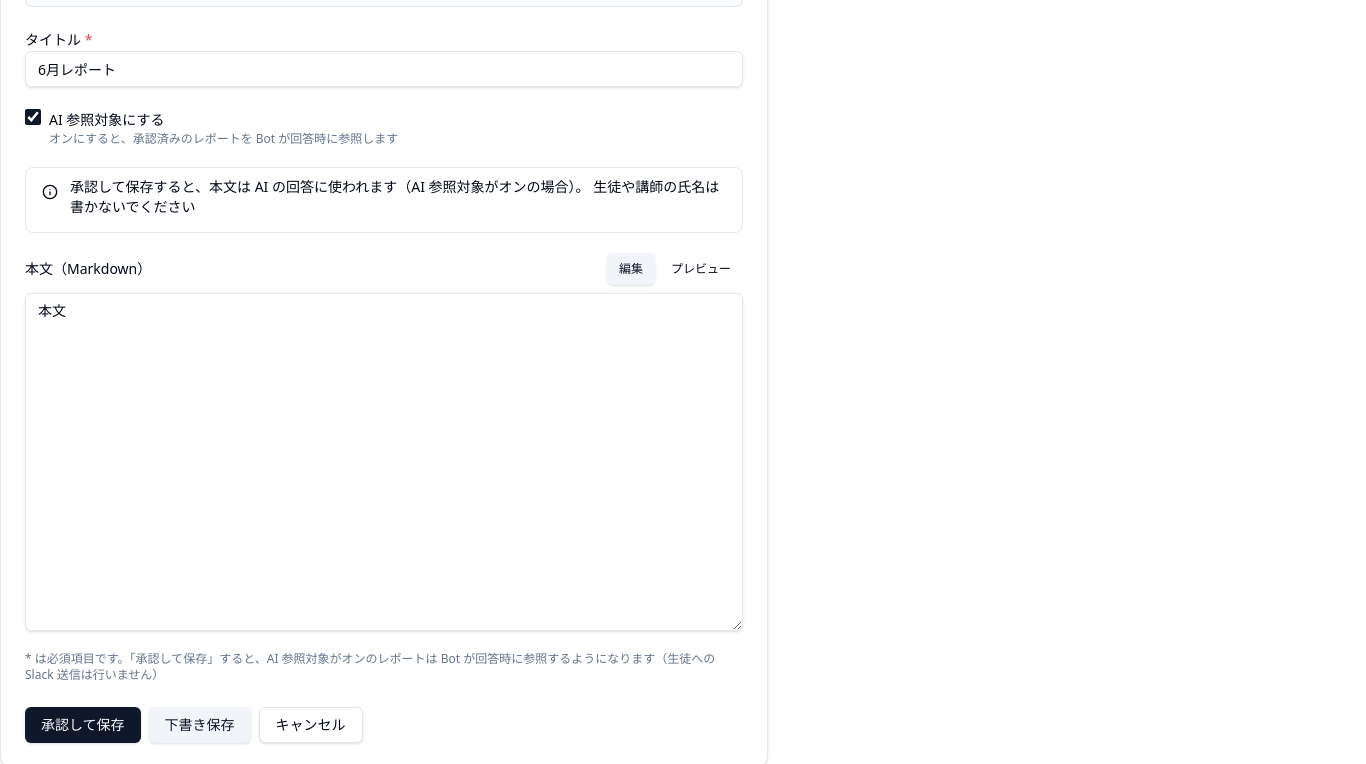
Test: ReportForm（H-8: fieldErrors の描画） › サーバーが返した各フィールドのエラーを表示する
(page scrolled)
Click the button "下書き保存" at (200, 725), box [149,707,251,743]
(page scrolled)
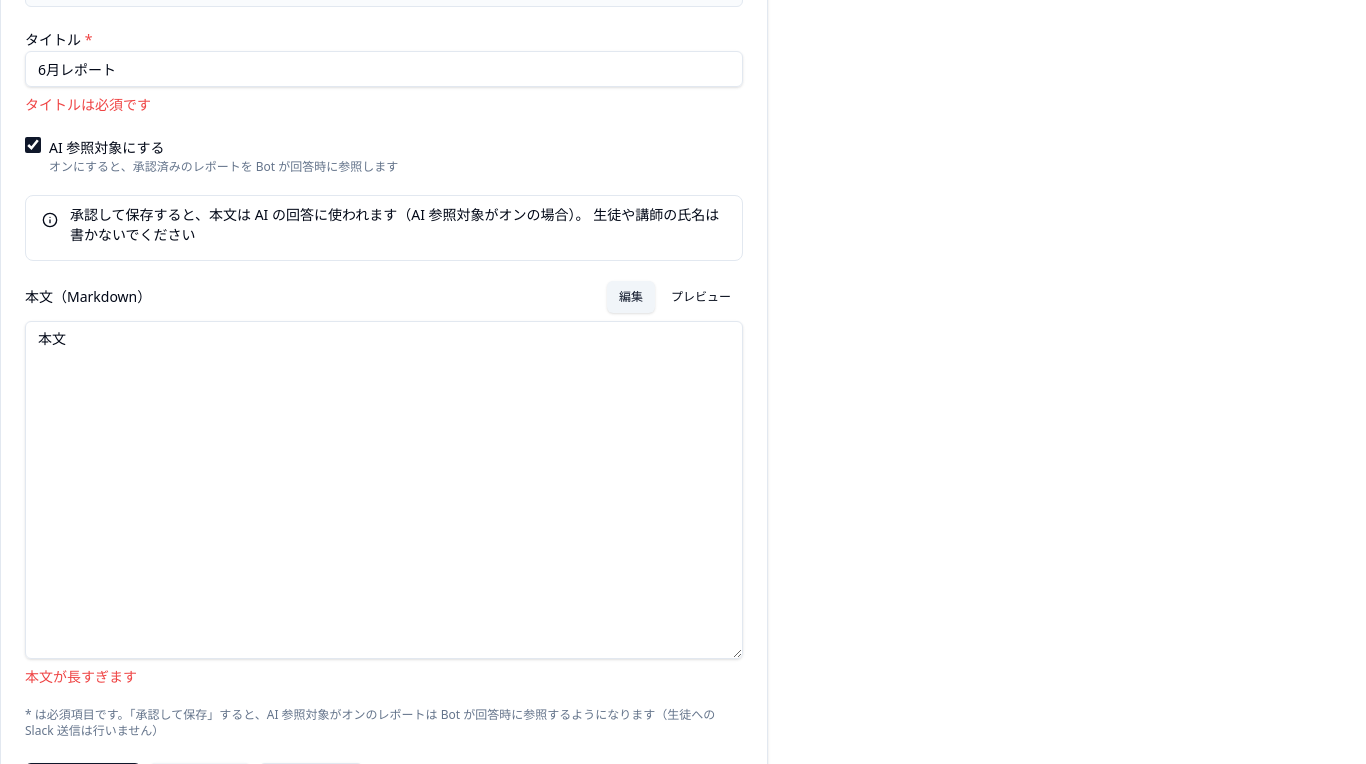
Now the text "タイトルは必須です" is shown, box [25,95,151,114]
Now the text "本文が長すぎます" is shown, box [25,667,137,686]
